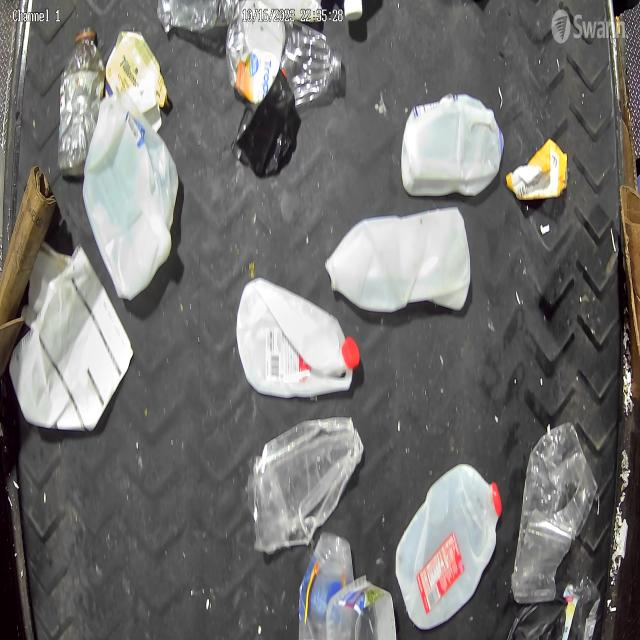milk_jug: (84, 98, 175, 298), (395, 461, 503, 629), (324, 208, 471, 313), (235, 278, 361, 398), (400, 94, 504, 199)
plastic_bottle: (224, 0, 342, 104), (58, 28, 104, 167)
